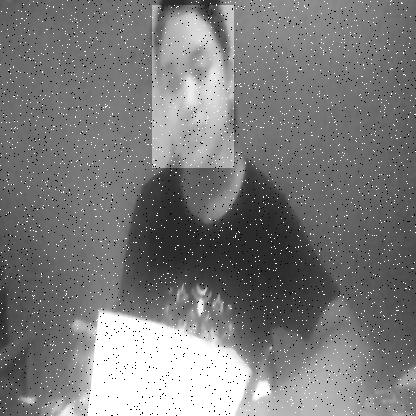Distracted: (152, 5, 234, 168)
